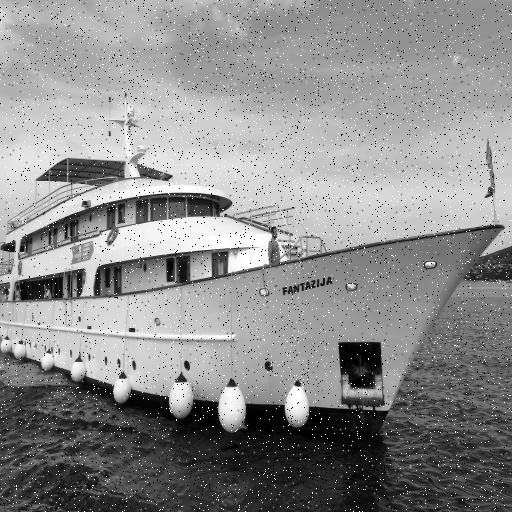cruises: (1, 92, 510, 434)
